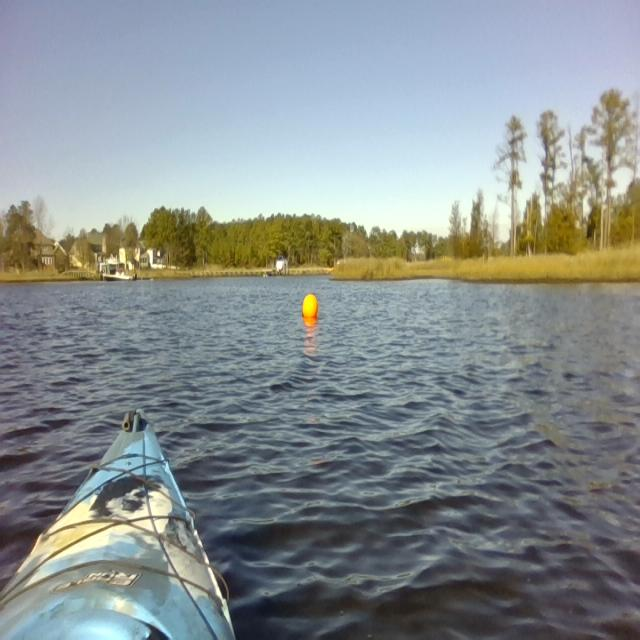Buoy: (298, 288, 322, 329)
